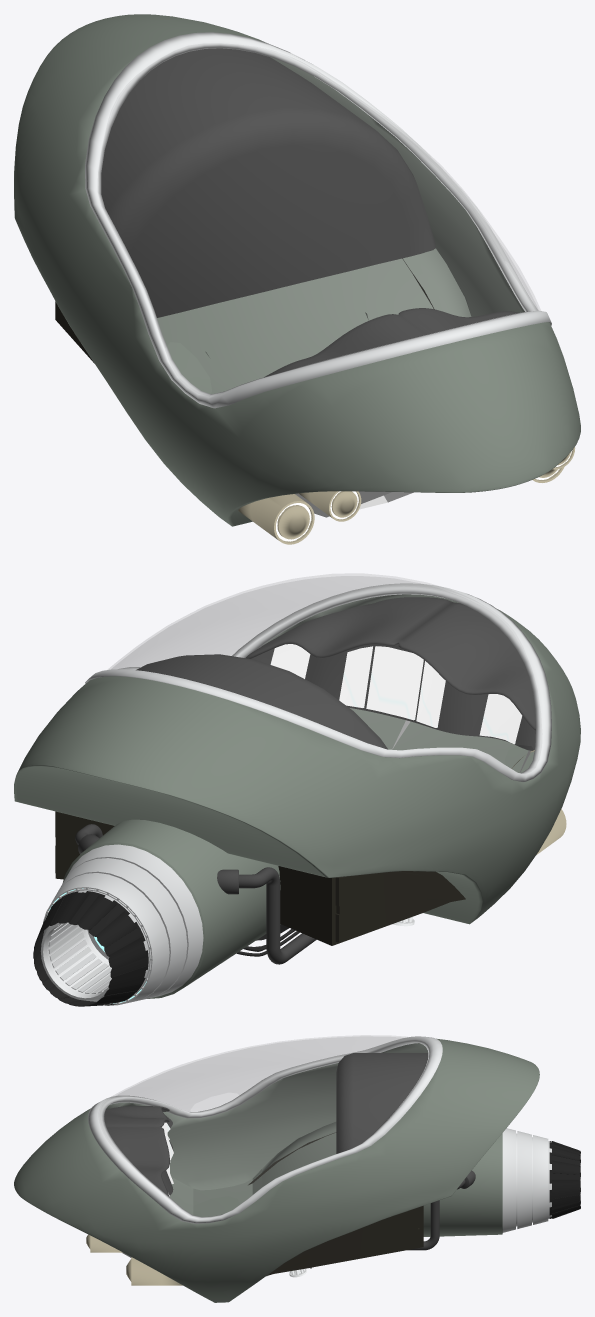
File: Ship.glb
3 views of the same model, one above another, from view 1: azimuth 30°, elevation 25°; view 2: azimuth 150°, elevation 25°; view 3: azimuth 270°, elevation 25° (orthographic). The views are drawn at different scales.
Visible parts, largest first — view 1: Ship, Glass, Inside, Rim, Headlights, Dashboard Top, Filter; view 2: Ship, Glass, Engine Butt, Dashboard Top, Engine Sides, Rim, Engine, Dashboard, Inside, Dashboard Back, Engine Pipe; view 3: Ship, Glass, Rim, Engine Butt, Inside, Engine, Engine Sides, Dashboard Top, Headlights, Engine Pipe.
Part boxes in pixels (bbox=[...]): Ship: bbox=[14, 14, 580, 526]; Glass: bbox=[99, 44, 540, 394]; Inside: bbox=[101, 48, 435, 317]; Rim: bbox=[85, 32, 551, 408]; Headlights: bbox=[238, 447, 575, 544]; Dashboard Top: bbox=[264, 308, 518, 377]; Filter: bbox=[295, 491, 413, 517]; Ship: bbox=[14, 594, 580, 924]; Glass: bbox=[108, 574, 539, 764]; Engine Butt: bbox=[33, 844, 203, 1006]; Dashboard Top: bbox=[245, 597, 535, 730]; Engine Sides: bbox=[55, 811, 465, 945]; Rim: bbox=[85, 583, 551, 781]; Engine: bbox=[62, 819, 280, 998]; Dashboard: bbox=[270, 644, 522, 744]; Inside: bbox=[136, 654, 387, 749]; Dashboard Back: bbox=[251, 644, 535, 750]; Engine Pipe: bbox=[75, 824, 316, 964]; Ship: bbox=[14, 1038, 539, 1302]; Glass: bbox=[100, 1035, 429, 1214]; Rim: bbox=[88, 1036, 442, 1223]; Engine Butt: bbox=[502, 1128, 580, 1232]; Inside: bbox=[336, 1053, 428, 1153]; Engine: bbox=[302, 1133, 502, 1236]; Engine Sides: bbox=[248, 1132, 423, 1275]; Dashboard Top: bbox=[104, 1106, 169, 1196]; Headlights: bbox=[86, 1234, 182, 1285]; Engine Pipe: bbox=[407, 1170, 475, 1250].
Bounding box in the file's own units: 3.12 × 2.74 × 6.47.
